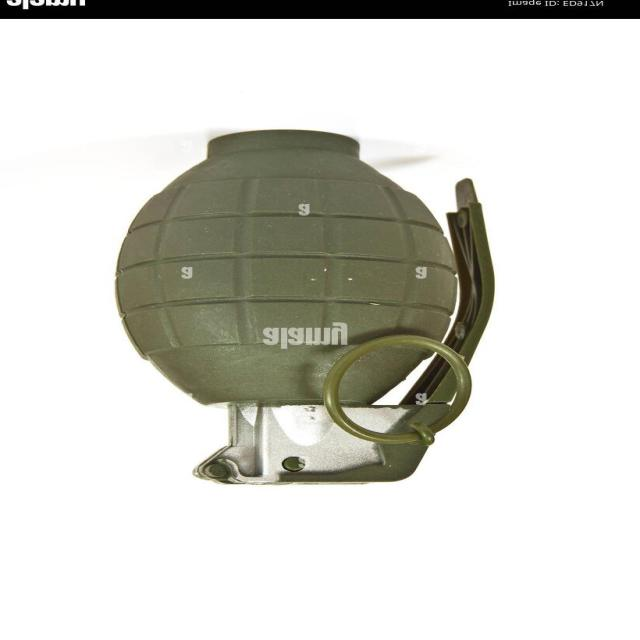grenade: (113, 130, 499, 489)
